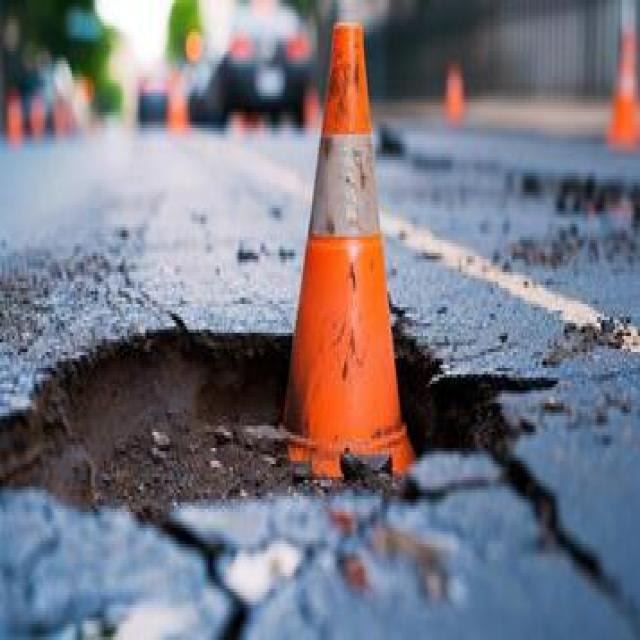road collapse: (0, 102, 541, 639)
